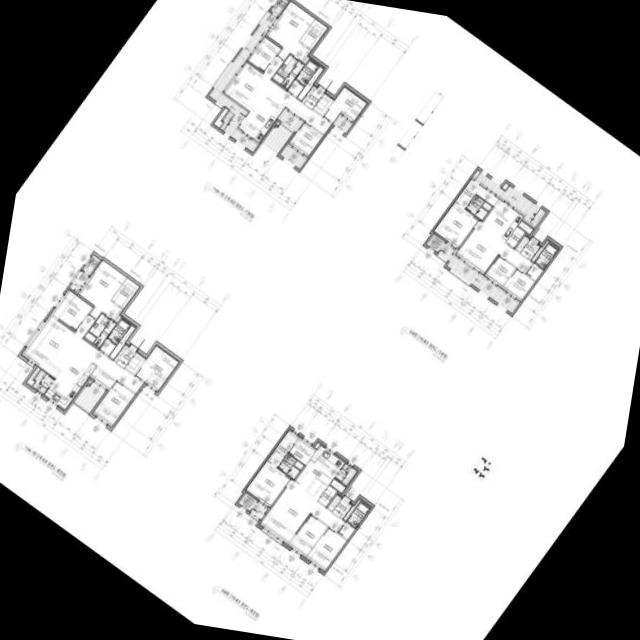background: (0, 0, 640, 640)
space_balconi: (208, 13, 276, 152), (438, 244, 519, 314), (473, 170, 546, 227), (262, 125, 292, 154), (74, 384, 104, 413), (280, 145, 306, 169), (32, 370, 54, 394), (335, 464, 357, 486), (279, 111, 301, 132), (69, 271, 88, 293), (334, 116, 352, 134), (250, 502, 268, 520)
space_bedroom: (266, 2, 315, 62), (78, 260, 126, 321), (434, 203, 479, 249), (246, 462, 291, 508), (135, 346, 179, 392), (93, 381, 135, 427), (306, 528, 346, 571), (51, 290, 92, 331), (323, 87, 367, 124), (289, 515, 327, 557), (289, 123, 323, 157), (247, 37, 280, 72), (502, 269, 535, 302), (485, 256, 515, 288)
space_dressroom: (455, 180, 498, 210), (267, 431, 298, 468), (111, 279, 140, 309), (299, 20, 328, 50)
space_front: (302, 86, 324, 110), (114, 345, 136, 369), (520, 240, 540, 260), (332, 499, 352, 519)
space_kitchen: (44, 352, 96, 410), (295, 446, 344, 502), (238, 93, 284, 143), (482, 200, 523, 241)
space_living_room: (22, 315, 144, 394), (222, 56, 332, 135), (260, 480, 345, 544), (456, 221, 533, 275)
space_other: (297, 67, 324, 101), (109, 326, 136, 360), (288, 438, 316, 465), (90, 366, 116, 390), (313, 93, 334, 116), (125, 353, 145, 375), (506, 227, 525, 248), (318, 486, 337, 507), (531, 241, 548, 262), (343, 500, 360, 521), (25, 367, 40, 387), (213, 108, 228, 128), (526, 264, 543, 281), (338, 523, 355, 540), (99, 339, 115, 356), (287, 81, 303, 97), (515, 236, 529, 252), (327, 495, 341, 511), (518, 222, 533, 235), (330, 480, 345, 493), (272, 74, 284, 84), (482, 202, 492, 211), (294, 461, 304, 470), (303, 56, 310, 64), (115, 315, 121, 323), (502, 183, 508, 190), (315, 443, 320, 449), (88, 380, 92, 384), (276, 122, 279, 125)
space_outdoor_room: (426, 234, 445, 253), (238, 493, 257, 512), (82, 255, 100, 275), (270, 0, 289, 17)
space_toilet: (84, 314, 116, 348), (277, 55, 304, 89), (534, 244, 558, 269), (346, 503, 370, 528), (295, 60, 318, 86), (107, 319, 130, 345), (466, 196, 488, 220), (278, 455, 300, 479)
